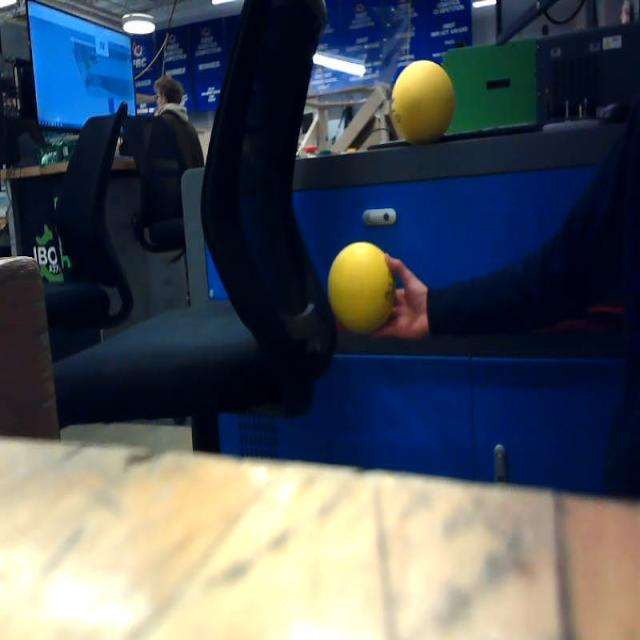Fuel: (328, 242, 396, 333), (393, 60, 455, 143)
